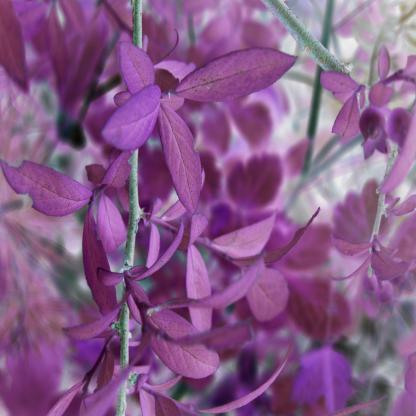Blueberry leaf: (170, 42, 297, 112), (152, 99, 210, 236), (141, 300, 227, 392), (1, 150, 92, 235), (94, 72, 168, 158), (77, 206, 127, 328), (178, 245, 223, 346), (209, 204, 288, 258), (114, 34, 160, 96)
